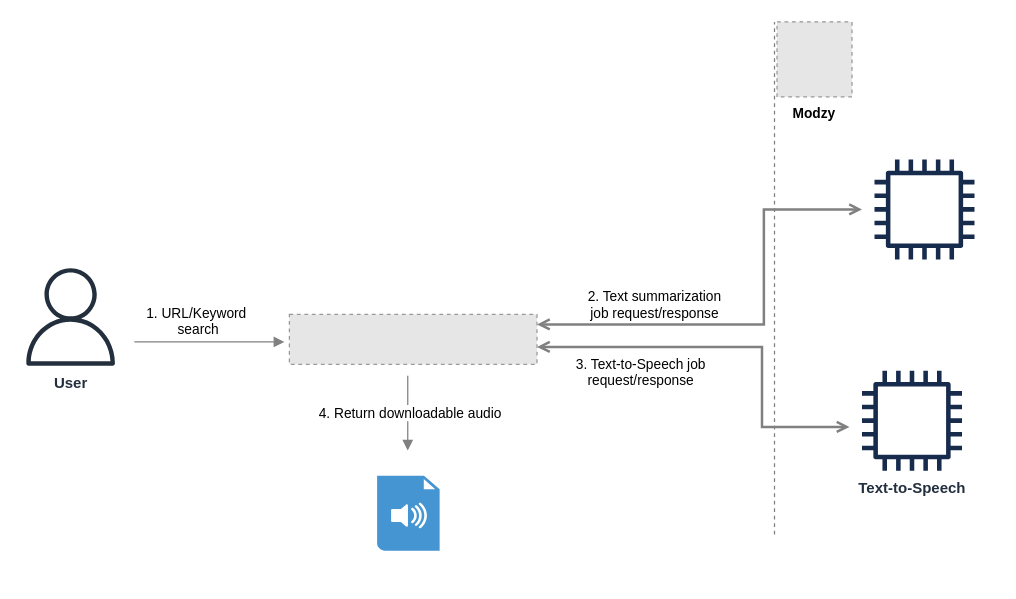
This 1016x599 diagram has some shape labels left out. Grey dashed boxes stand in for pictures. Each missing label, with the centre of its shape:
"Audio" belongs at point (407, 512).
"Text Summarization" belongs at point (924, 209).
